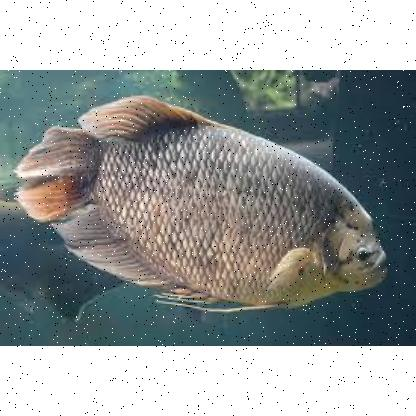gurame: (36, 94, 392, 312)
